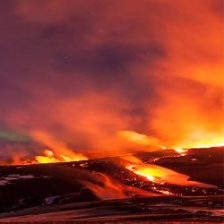fire: (17, 129, 224, 203)
